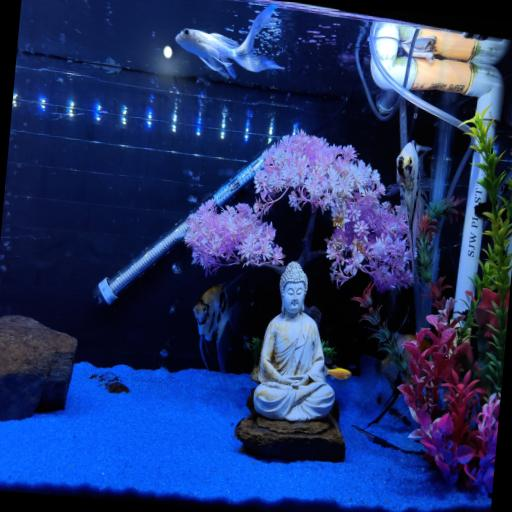Fish: (176, 5, 283, 78), (387, 141, 431, 275), (194, 284, 238, 373), (360, 354, 401, 391), (328, 366, 351, 380)
